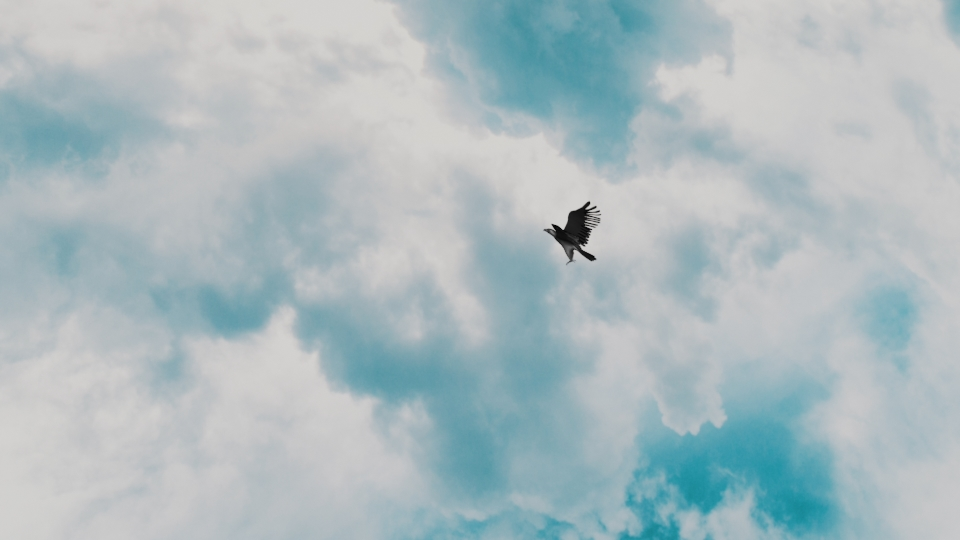bird: (544, 200, 606, 267)
